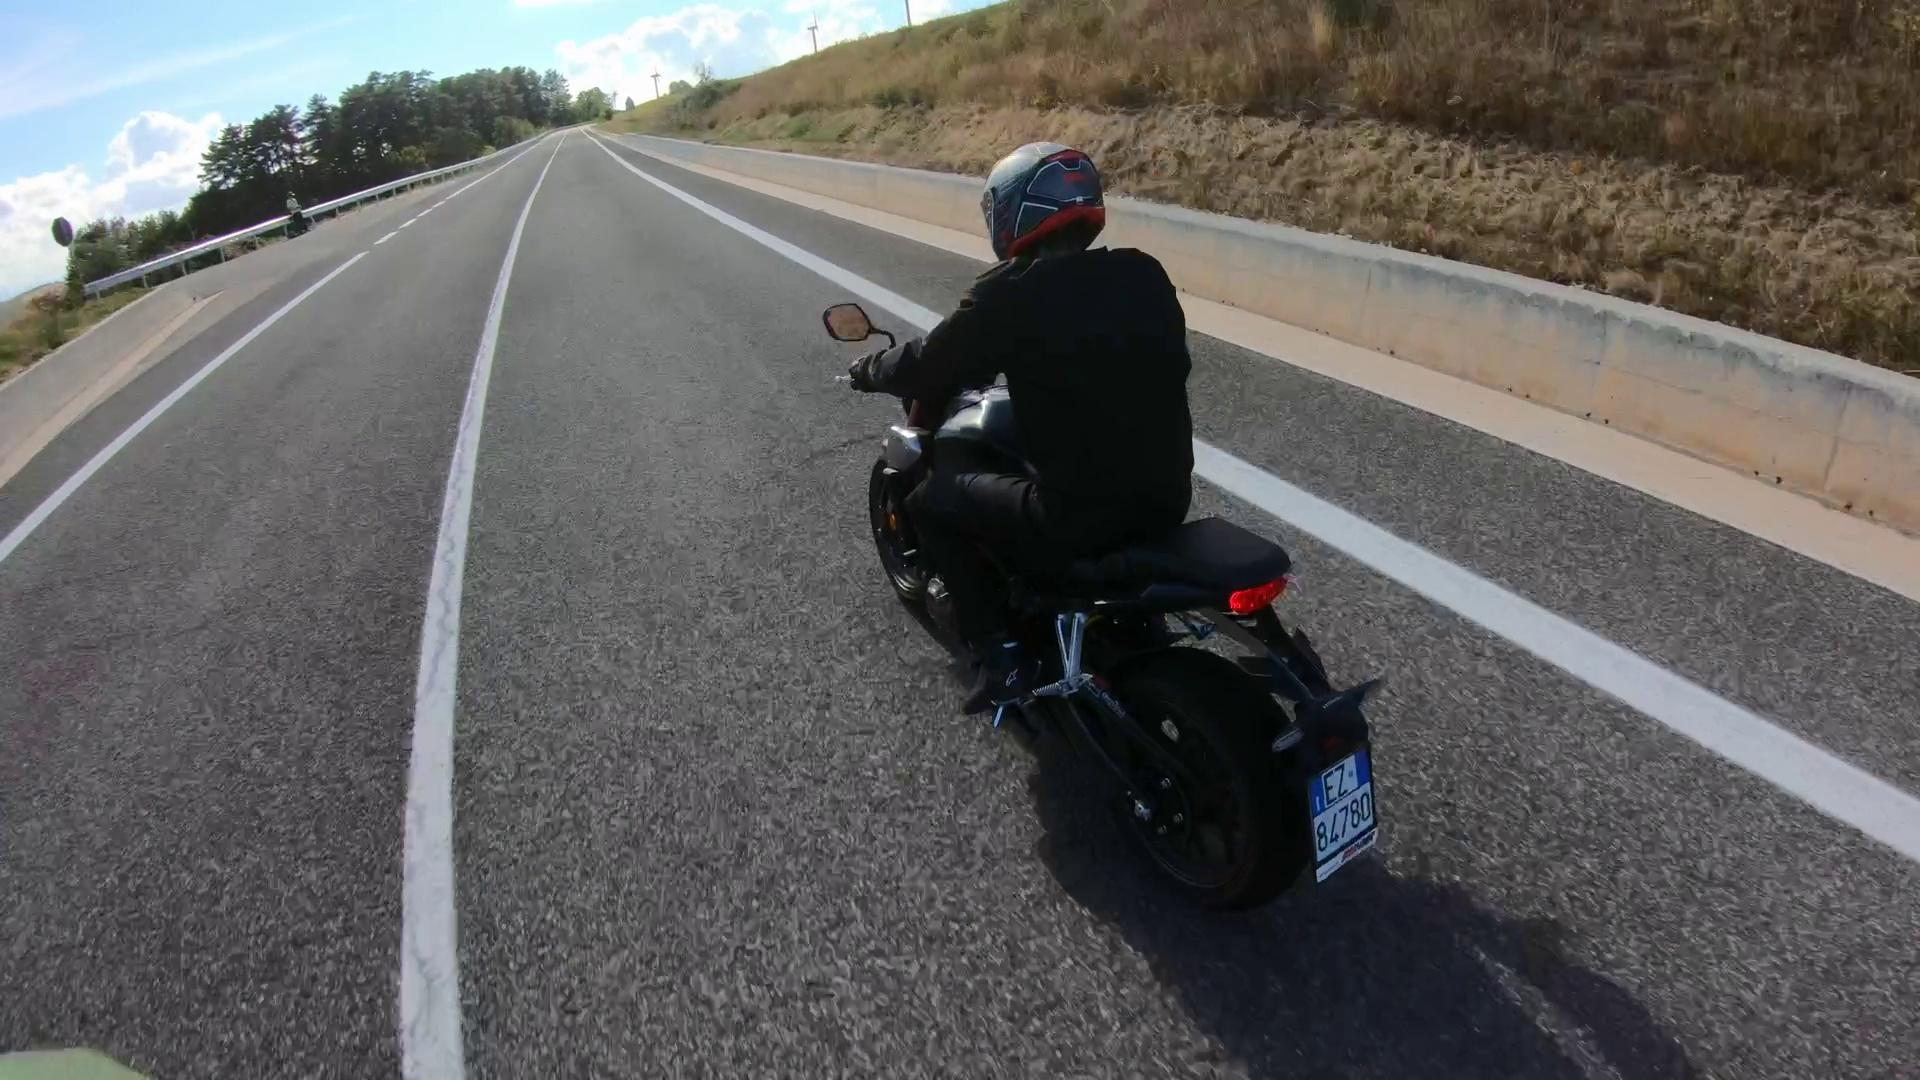motorbike: (820, 300, 1385, 940)
person: (842, 140, 1198, 712)
